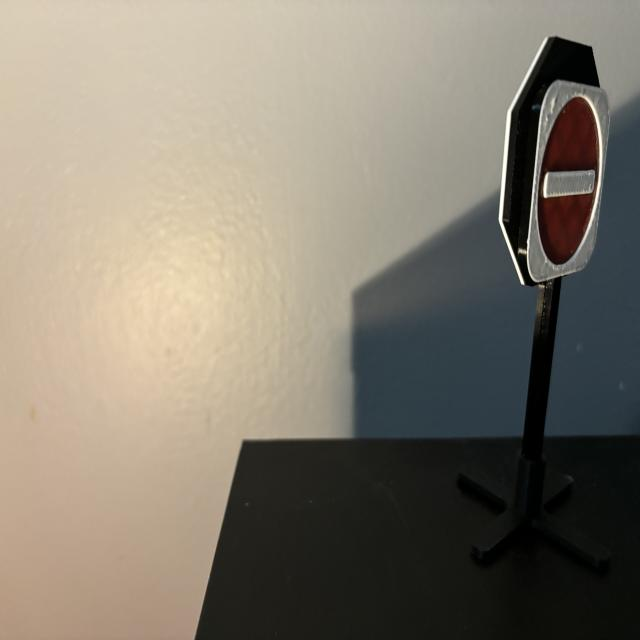sign_noentry: (529, 81, 612, 284)
